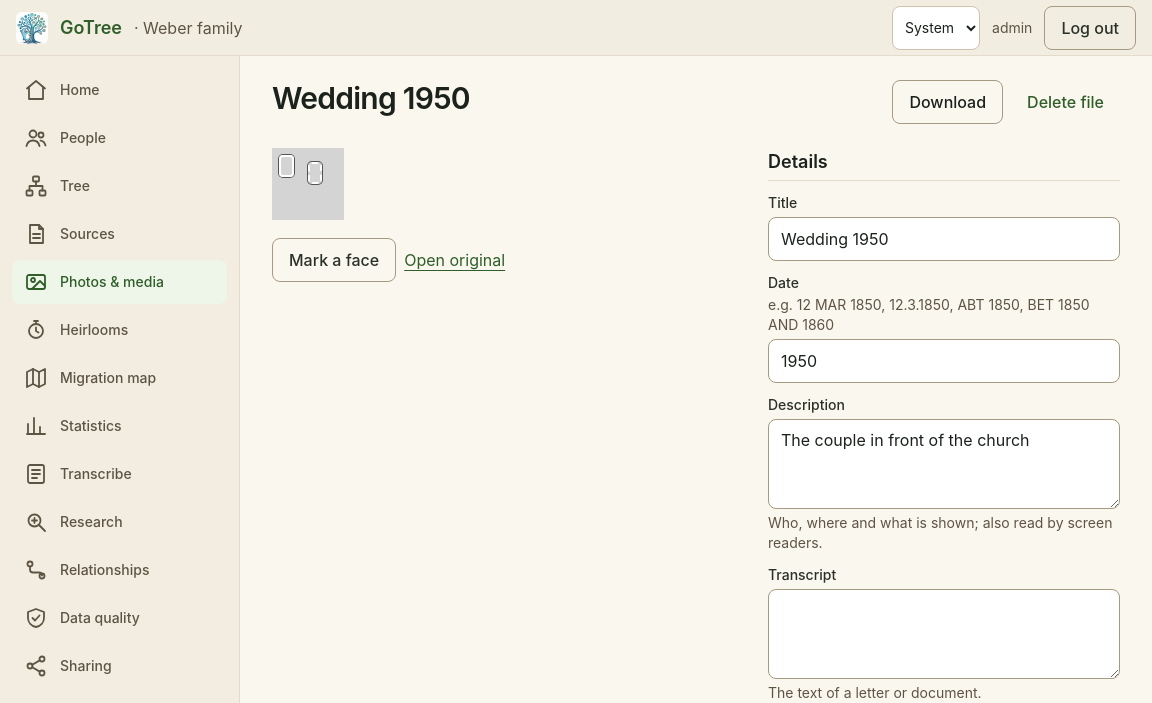
Scenario: media page › offers face drawing as a toggle with a keyboard alternative explained
Click the button "Mark a face": (334, 260) [272,238,396,282]
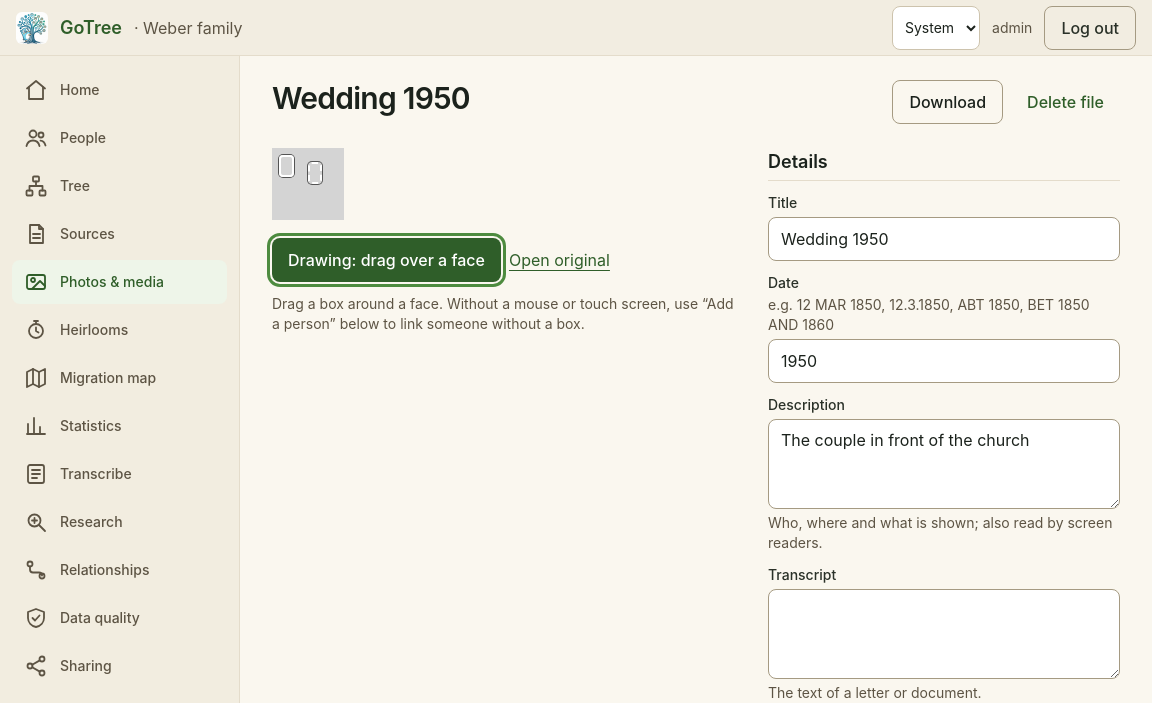
Result: the text "Without a mouse or touch screen" is shown at [272,295,734,332]
